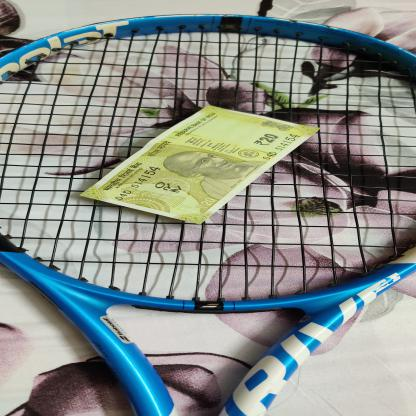New20Front: (77, 106, 321, 226)
